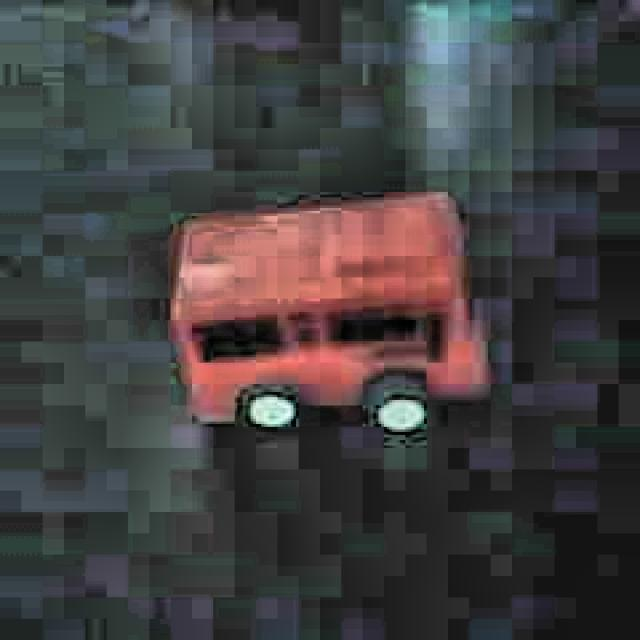bus: (157, 172, 498, 449)
